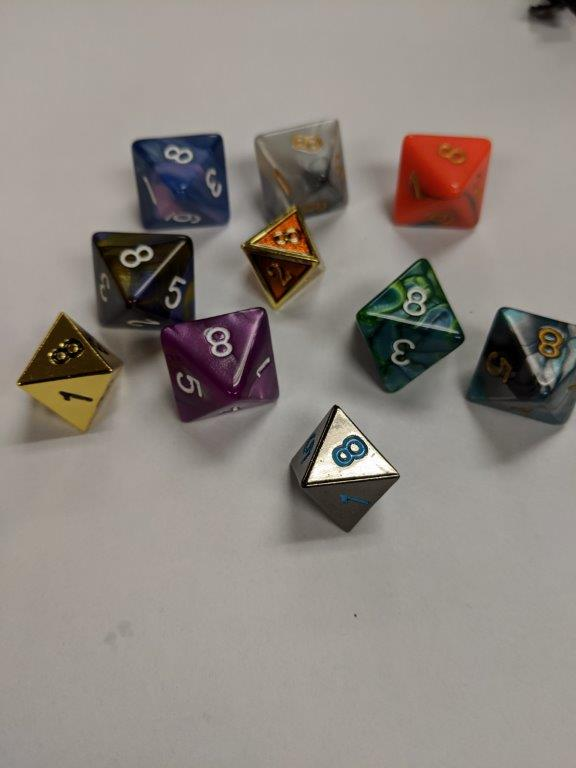d8-8: (352, 254, 466, 399), (292, 401, 400, 538), (162, 307, 283, 424), (466, 304, 576, 426), (18, 308, 121, 431), (92, 229, 196, 333), (390, 134, 492, 234), (130, 134, 230, 230), (253, 119, 347, 221), (241, 207, 324, 308)
